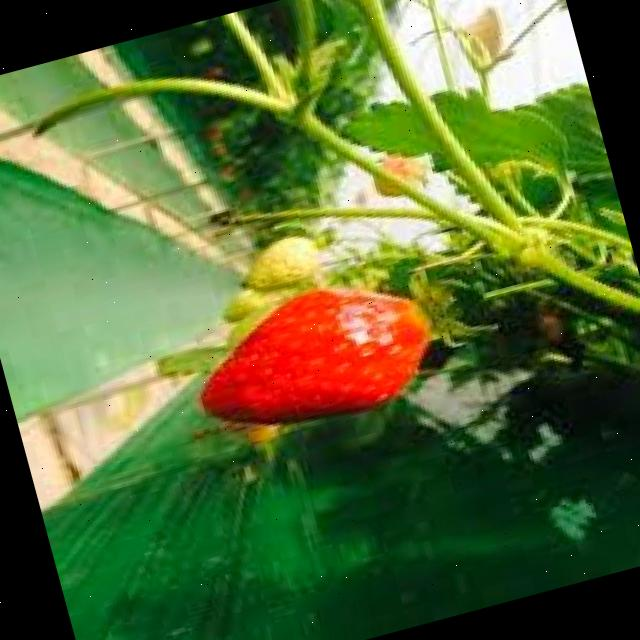strawberry: (180, 263, 444, 448), (238, 228, 323, 296)
